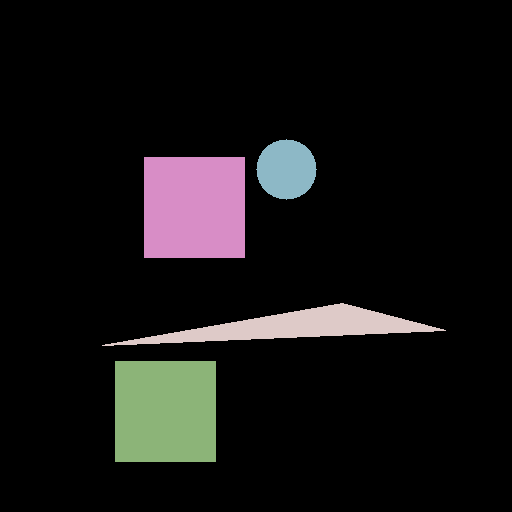circle: (256, 139, 316, 199)
square: (115, 361, 215, 461), (144, 157, 244, 257)
triangle: (102, 303, 445, 345)
